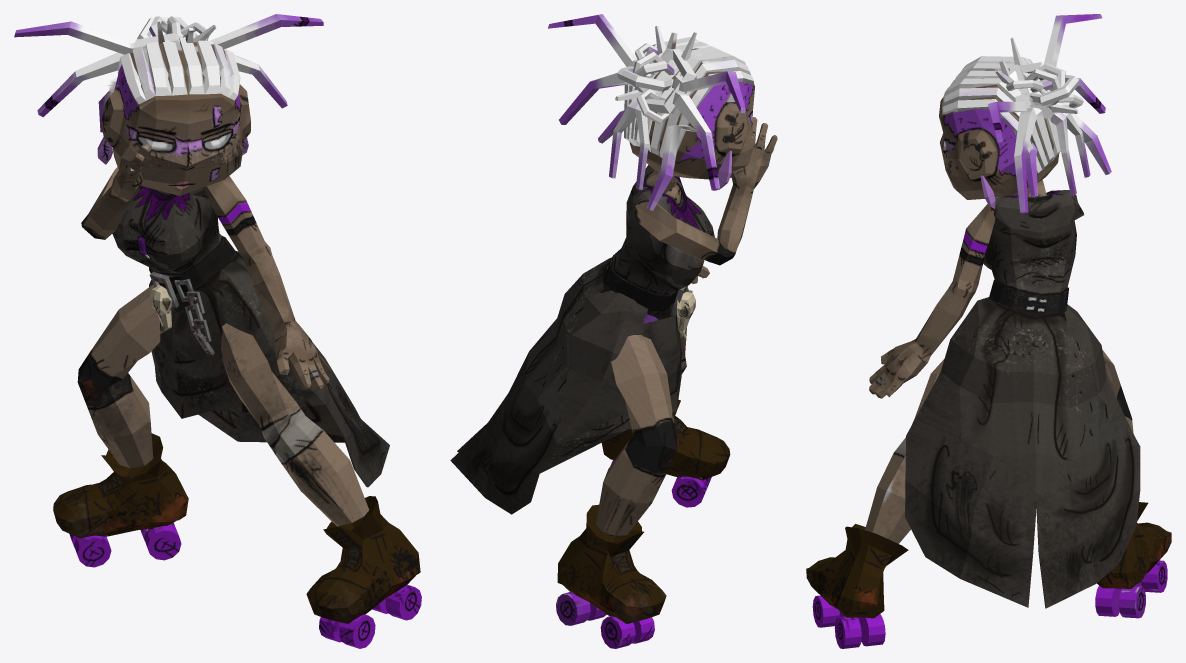
The model's file is bruja_000025.obj.
3 views of the same model, side by side, from view 1: azimuth 30°, elevation 25°; view 2: azimuth 150°, elevation 25°; view 3: azimuth 270°, elevation 25° (orthographic). The views are drawn at different scales.
Parts seen in each view (by area): view 1: Bruja_Plane.001; view 2: Bruja_Plane.001; view 3: Bruja_Plane.001.
Boxes of the visible parts, bbox=[...] form: Bruja_Plane.001: bbox=[14, 14, 421, 648]; Bruja_Plane.001: bbox=[450, 14, 777, 648]; Bruja_Plane.001: bbox=[806, 14, 1171, 648].
Bounding box in the file's own units: 9.28 × 15.44 × 9.24.
